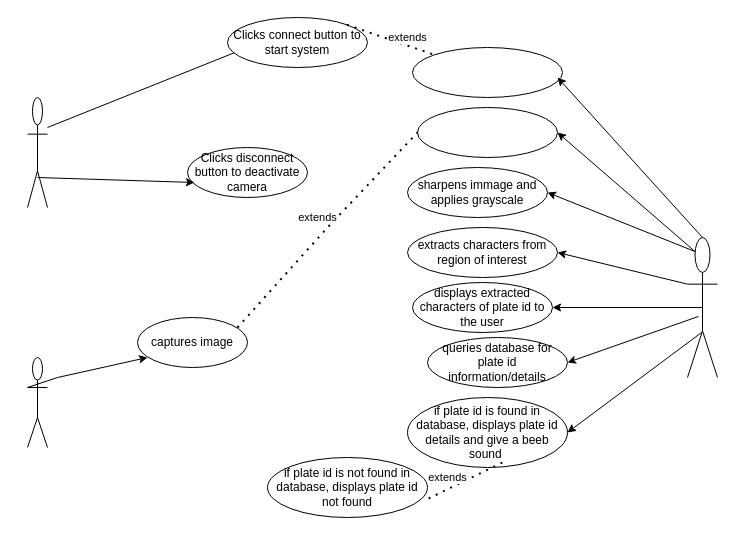
This 741x535 diagram has some shape labels left out. Each missing label, with the centre of its shape:
activates camera: (487,72)
camera: (37,402)
draws contours for plate region of interest: (487,132)
System: (702,307)
User: (37,152)
